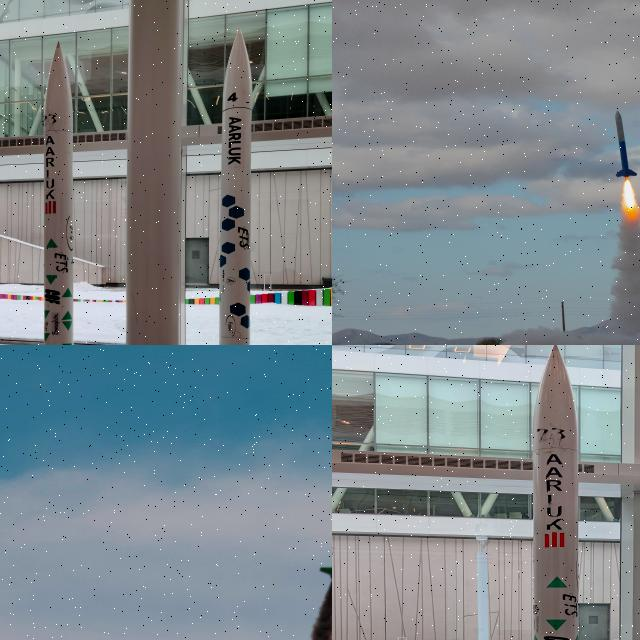Rocket: (532, 345, 579, 640), (219, 27, 252, 345), (44, 41, 73, 345), (318, 471, 332, 579), (615, 110, 637, 178)
